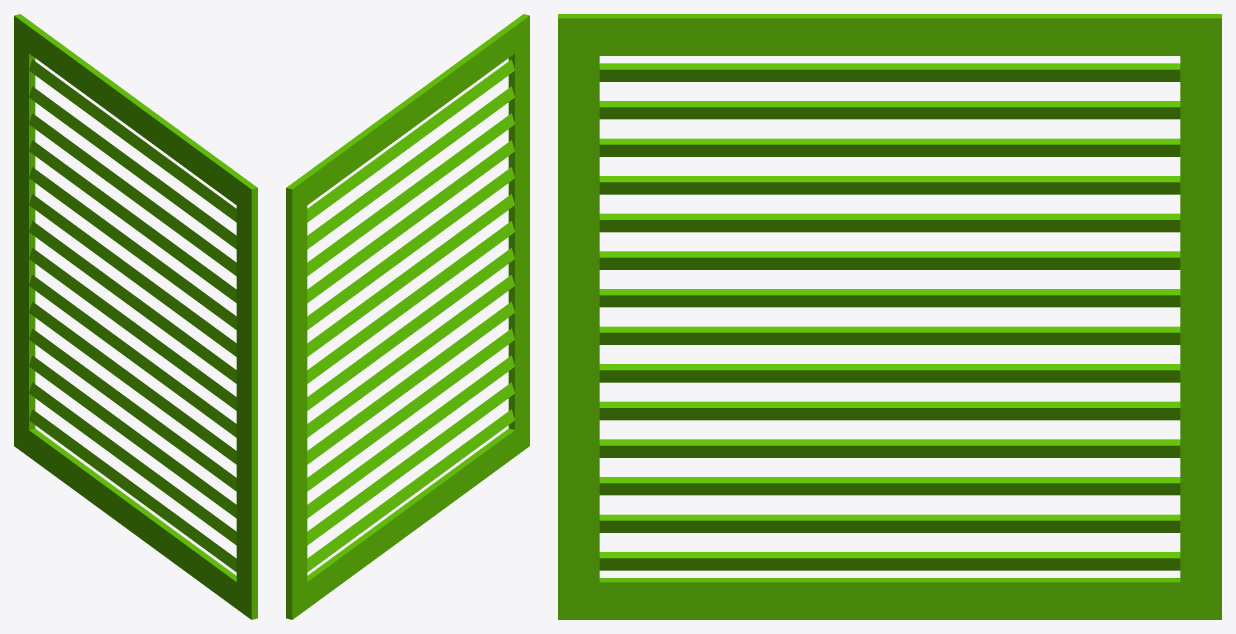
Rendered from vent_cover.FBX.
The picture shows the model from 3 angles, left to right: view 1: azimuth 30°, elevation 25°; view 2: azimuth 150°, elevation 25°; view 3: azimuth 270°, elevation 25°; orthographic projection. The views are drawn at different scales.
Visible parts, largest first — view 1: Brush001; view 2: Brush001; view 3: Brush001.
Boxes of the visible parts, bbox=[...] form: Brush001: bbox=[14, 14, 257, 619]; Brush001: bbox=[286, 14, 529, 619]; Brush001: bbox=[558, 14, 1221, 619].
Bounding box in the file's own units: 1 × 64 × 64.
